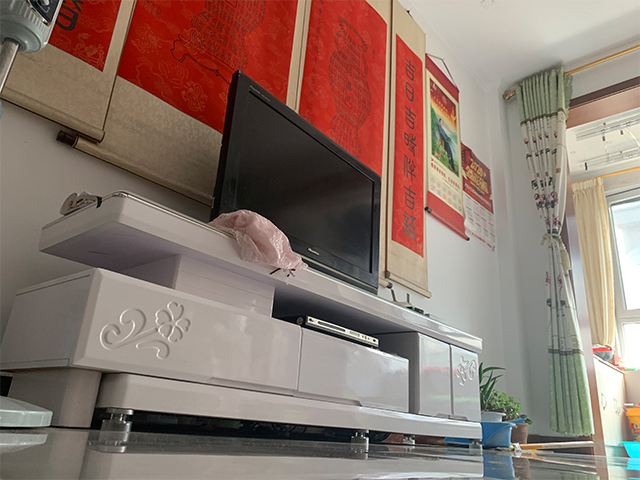cabinet: (1, 189, 484, 450), (593, 354, 626, 457)
curtain: (513, 63, 597, 438)
